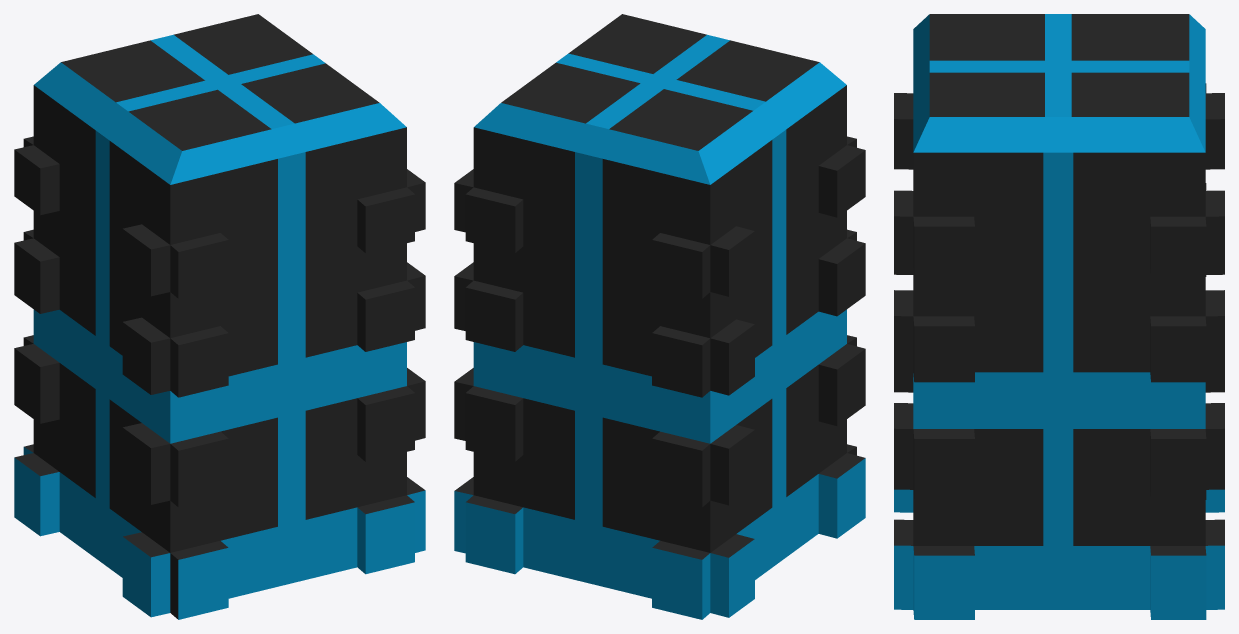
Rendered from TowerNeon02.fbx.
The picture shows the model from 3 angles, left to right: view 1: azimuth 30°, elevation 25°; view 2: azimuth 150°, elevation 25°; view 3: azimuth 270°, elevation 25°; orthographic projection. The views are drawn at different scales.
Parts seen in each view (by area): view 1: TowerNeon02; view 2: TowerNeon02; view 3: TowerNeon02.
Boxes of the visible parts, x1,y1,x2,y2 form: TowerNeon02: (14,14,425,619); TowerNeon02: (454,14,865,619); TowerNeon02: (894,14,1224,619).
Size of the model in its own units: 2.32 by 3.65 by 2.27.
